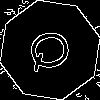Q: (25, 25, 81, 74)
